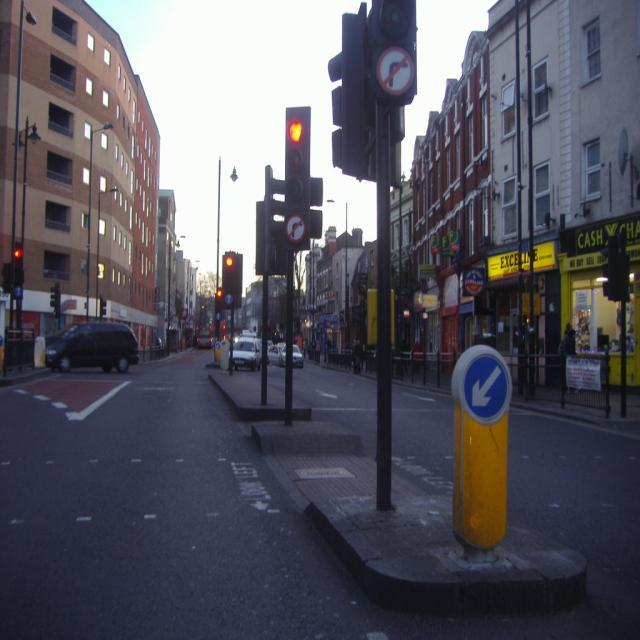off traffic light: (327, 11, 368, 178), (369, 0, 418, 108), (600, 236, 619, 298), (310, 176, 322, 240), (272, 175, 282, 240)
traffic light: (454, 348, 513, 419), (284, 106, 311, 211), (222, 254, 237, 291), (15, 240, 23, 284), (216, 290, 223, 311)
